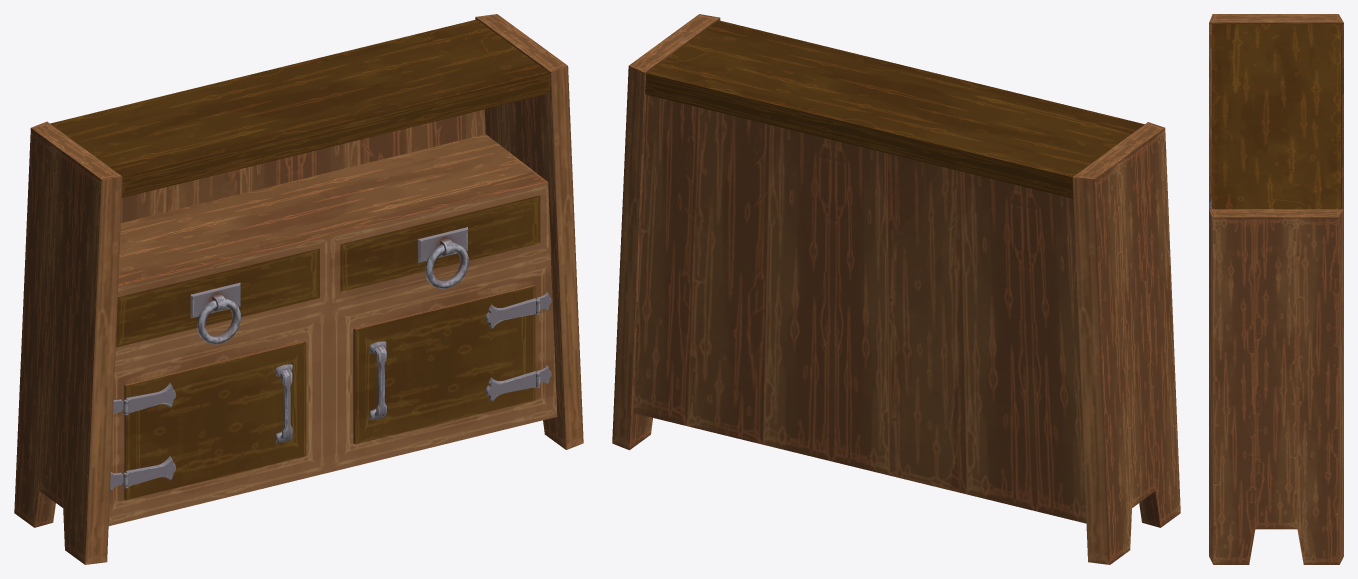
The model's file is Cabinet.gltf.
3 renders of one model, left to right at view 1: azimuth 30°, elevation 25°; view 2: azimuth 150°, elevation 25°; view 3: azimuth 270°, elevation 25°, orthographic. The views are drawn at different scales.
Parts seen in each view (by area): view 1: Cabinet; view 2: Cabinet; view 3: Cabinet.
Part boxes in pixels (<box>): Cabinet: <box>14,14,583,564</box>; Cabinet: <box>612,14,1180,564</box>; Cabinet: <box>1209,14,1343,564</box>.
Bounding box in the file's own units: 1.36 × 0.9974 × 0.3571.
2 materials, 2 textured.
